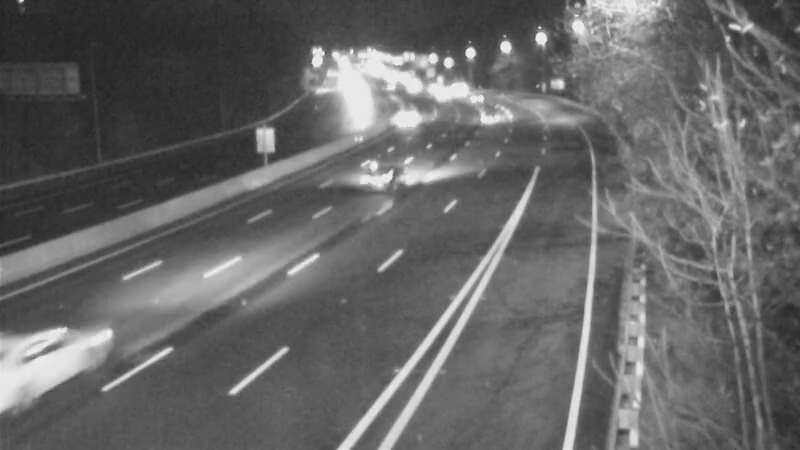vehicle: (1, 314, 99, 424), (346, 127, 426, 207), (436, 63, 486, 113), (417, 69, 467, 119), (455, 72, 505, 122), (379, 92, 429, 142), (463, 93, 513, 143)
